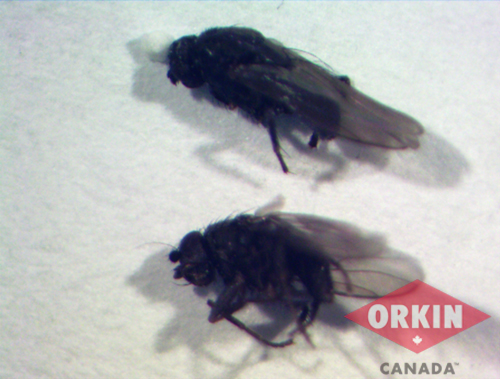house fly: (159, 197, 431, 353), (163, 23, 431, 177)
